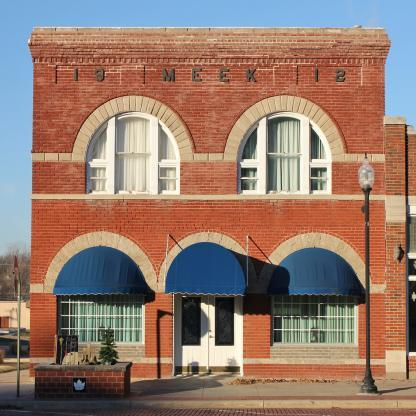Building Outline: (28, 26, 416, 382)
Cornice: (223, 94, 346, 162), (71, 94, 194, 162), (43, 231, 158, 293), (257, 232, 372, 293), (158, 232, 257, 293)
Deco: (163, 68, 175, 82), (94, 68, 104, 82), (247, 68, 257, 82), (336, 69, 346, 83), (191, 68, 201, 82), (219, 68, 229, 82), (314, 69, 318, 83), (74, 68, 77, 82)
Dont: (33, 325, 133, 399), (358, 152, 378, 393)
Door: (175, 293, 240, 373)
Door Hole: (174, 293, 240, 377)
Facade: (32, 32, 386, 379)
Floor Slab: (32, 209, 386, 217)
Top Floor: (32, 217, 386, 379), (32, 58, 386, 209)
Window: (85, 111, 180, 195), (237, 111, 331, 195), (58, 292, 144, 345), (272, 293, 358, 346)
Window Hole: (57, 292, 145, 345), (270, 293, 358, 346)
